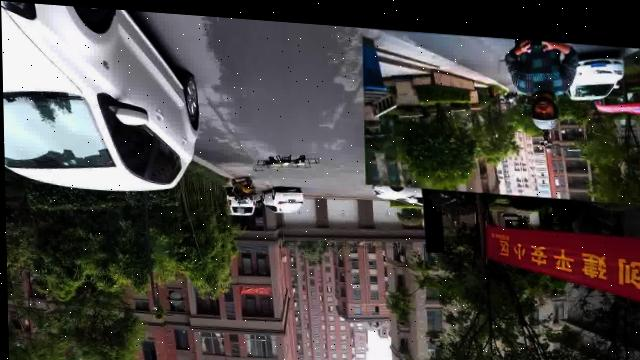drone: (249, 133, 324, 176)
